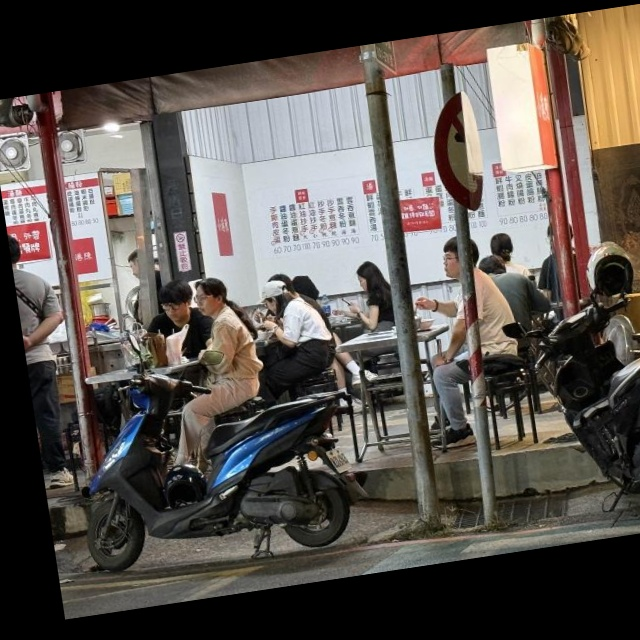Sin_Casco_Mascarrilla: (157, 278, 195, 322), (194, 276, 230, 316), (254, 279, 291, 317), (354, 259, 382, 292), (491, 231, 516, 264)
Sin_Chaleco: (206, 310, 262, 386)
